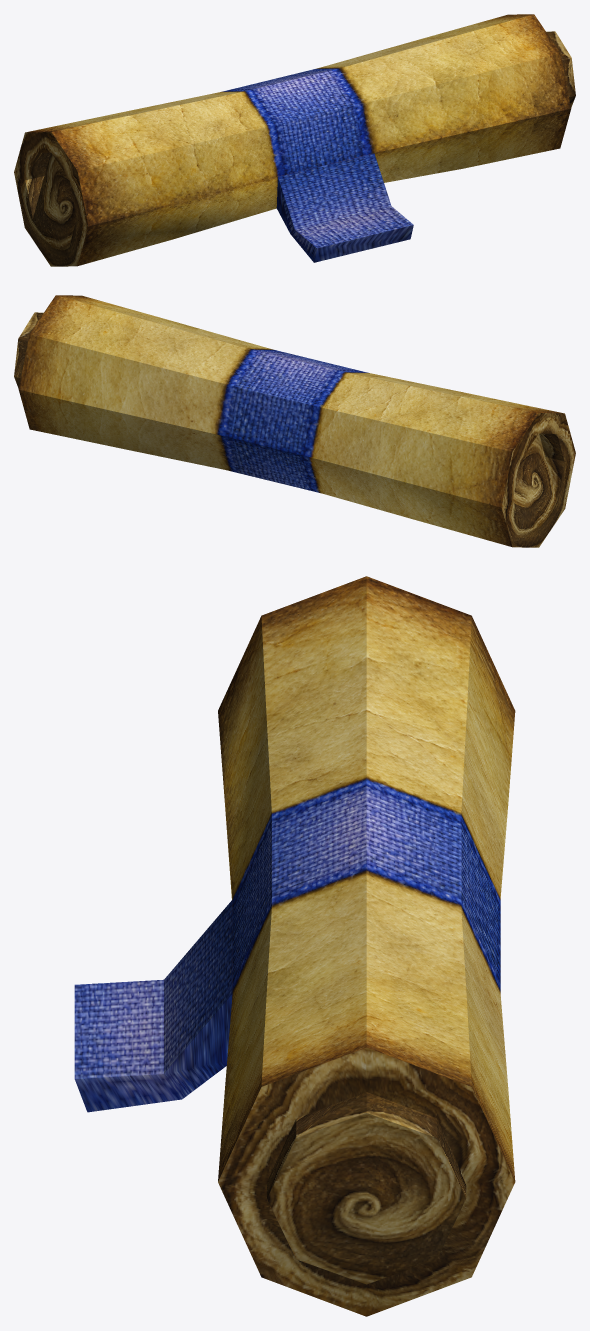
File: mm9_deco_scroll2.glb
3 renders of one model, top to bottom at view 1: azimuth 30°, elevation 25°; view 2: azimuth 150°, elevation 25°; view 3: azimuth 270°, elevation 25°, orthographic. The views are drawn at different scales.
Parts seen in each view (by area): view 1: Scroll2; view 2: Scroll2; view 3: Scroll2.
Boxes of the visible parts, x1=… form: Scroll2: x1=14, y1=14, x2=575, y2=266; Scroll2: x1=14, y1=295, x2=575, y2=547; Scroll2: x1=74, y1=576, x2=515, y2=1316.
Bounding box in the file's own units: 0.3927 × 0.1016 × 0.1486.
1 material, 1 textured.
